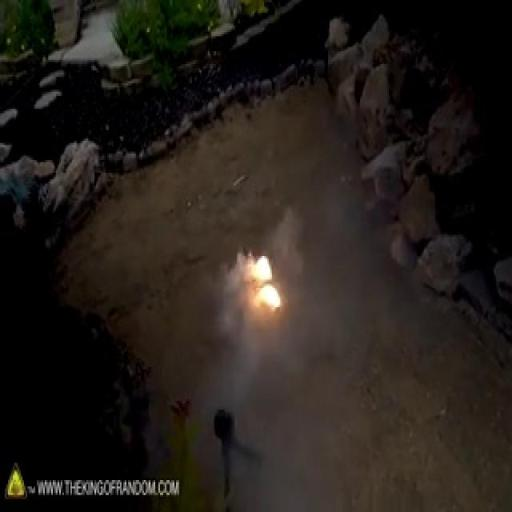smoke: (249, 225, 284, 304)
